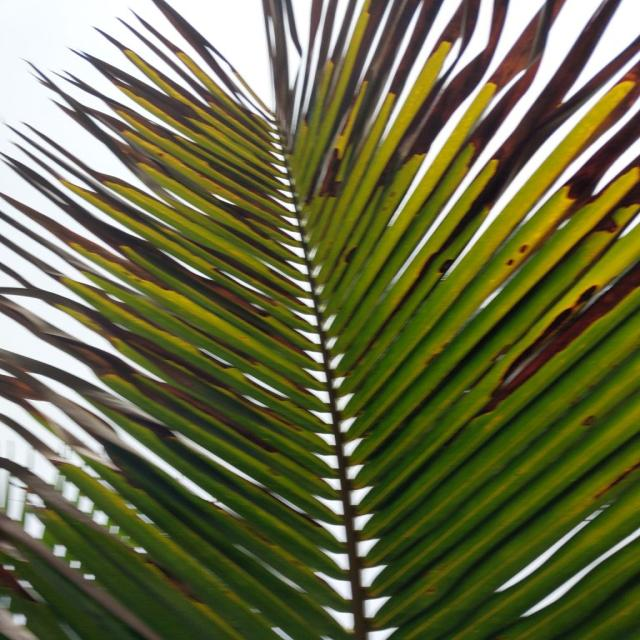gray leaf spot: (258, 3, 640, 391), (0, 8, 278, 492)
